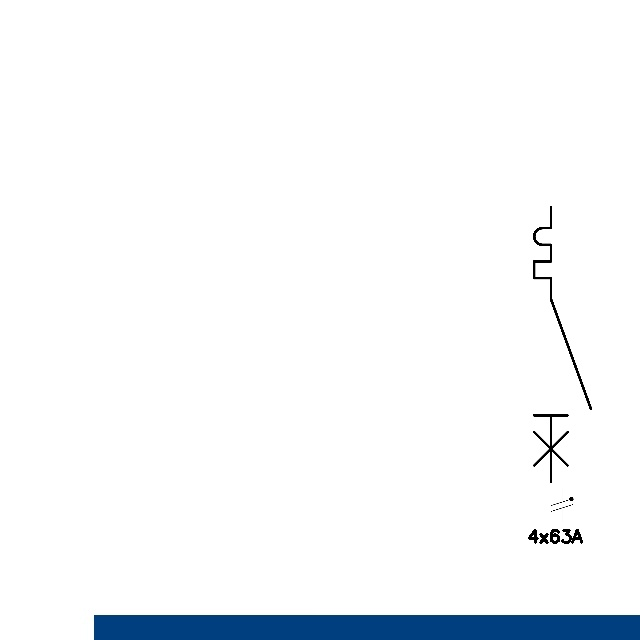interruptor_termomagnetico: (527, 200, 598, 489)
